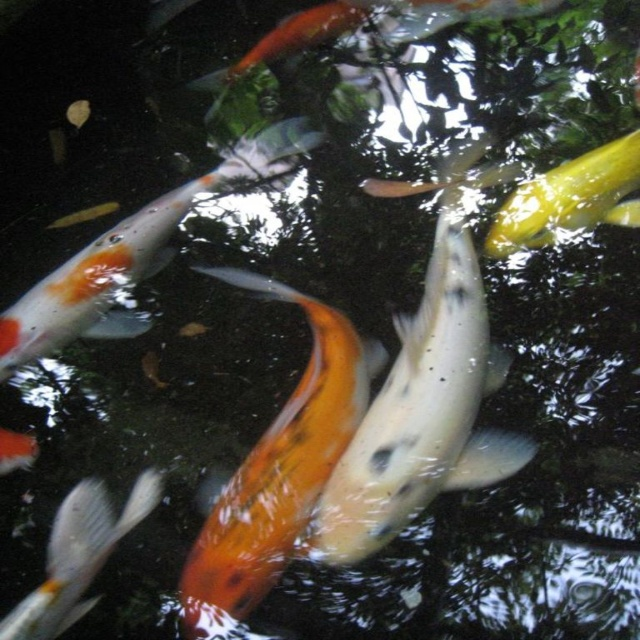Fish: (0, 108, 336, 385), (309, 172, 538, 570), (190, 266, 385, 635), (0, 472, 172, 639), (185, 2, 386, 109), (476, 127, 639, 256)
